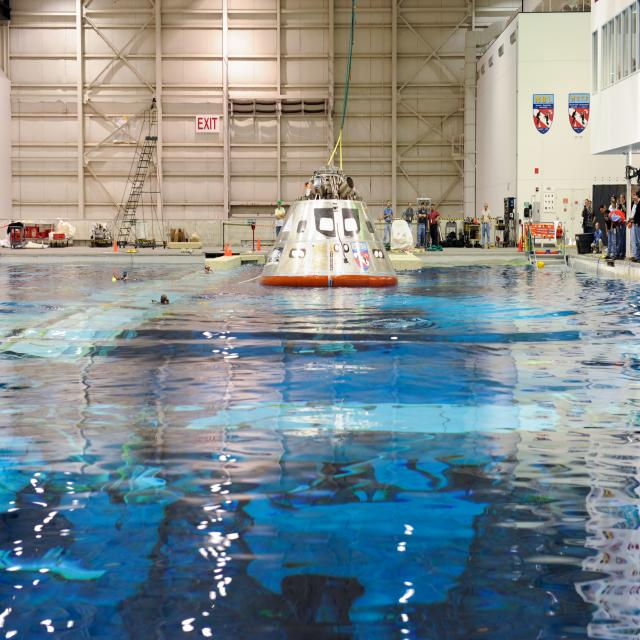Orion_capsule_mockup_(WEST)_located_on_far_end_of_pool: (259, 164, 398, 289)
